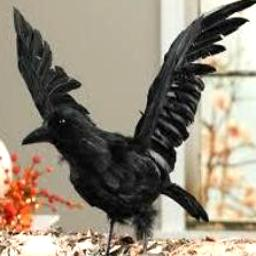Crow: (9, 0, 256, 256)
